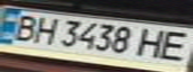3: (54, 17, 81, 50), (93, 21, 118, 54)
4: (75, 19, 100, 52)
8: (112, 24, 139, 56)
B: (3, 12, 42, 43)
E: (154, 28, 193, 62)
H: (130, 26, 175, 60), (27, 15, 60, 45)
